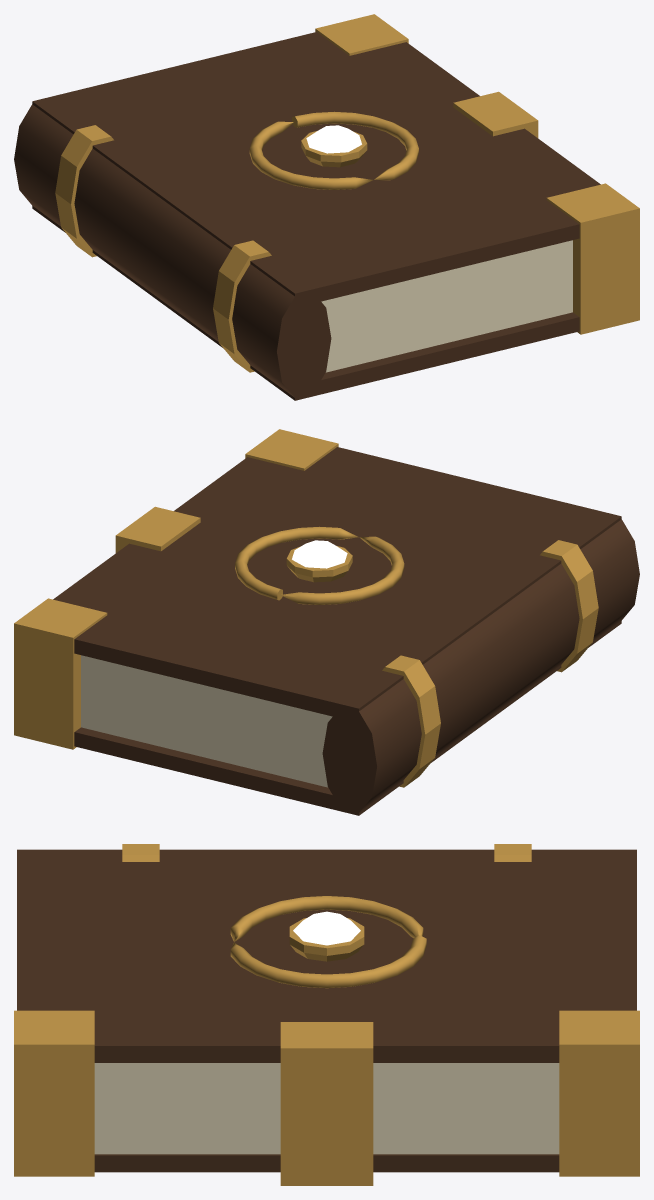
File: tome_neutral.glb
The picture shows the model from 3 angles, top to bottom: view 1: azimuth 30°, elevation 25°; view 2: azimuth 150°, elevation 25°; view 3: azimuth 270°, elevation 25°; orthographic projection. The views are drawn at different scales.
Visible parts, largest first — view 1: Tome_Neutral_Tome_neutral, Tome_Neutral_Brass, Tome_Neutral_Paper, Tome_Neutral_Gem_neutral; view 2: Tome_Neutral_Tome_neutral, Tome_Neutral_Brass, Tome_Neutral_Paper, Tome_Neutral_Gem_neutral; view 3: Tome_Neutral_Tome_neutral, Tome_Neutral_Brass, Tome_Neutral_Paper, Tome_Neutral_Gem_neutral.
Boxes of the visible parts, x1=… form: Tome_Neutral_Tome_neutral: x1=14, y1=32, x2=600, y2=400; Tome_Neutral_Brass: x1=55, y1=14, x2=639, y2=372; Tome_Neutral_Paper: x1=321, y1=240, x2=572, y2=372; Tome_Neutral_Gem_neutral: x1=306, y1=125, x2=361, y2=153; Tome_Neutral_Tome_neutral: x1=53, y1=447, x2=639, y2=815; Tome_Neutral_Brass: x1=14, y1=429, x2=598, y2=787; Tome_Neutral_Paper: x1=81, y1=655, x2=332, y2=787; Tome_Neutral_Gem_neutral: x1=292, y1=540, x2=347, y2=568; Tome_Neutral_Tome_neutral: x1=17, y1=849, x2=636, y2=1172; Tome_Neutral_Brass: x1=14, y1=844, x2=639, y2=1185; Tome_Neutral_Paper: x1=94, y1=1063, x2=559, y2=1154; Tome_Neutral_Gem_neutral: x1=293, y1=911, x2=360, y2=945.
Bounding box in the file's own units: 0.1655 × 0.0571 × 0.202.
